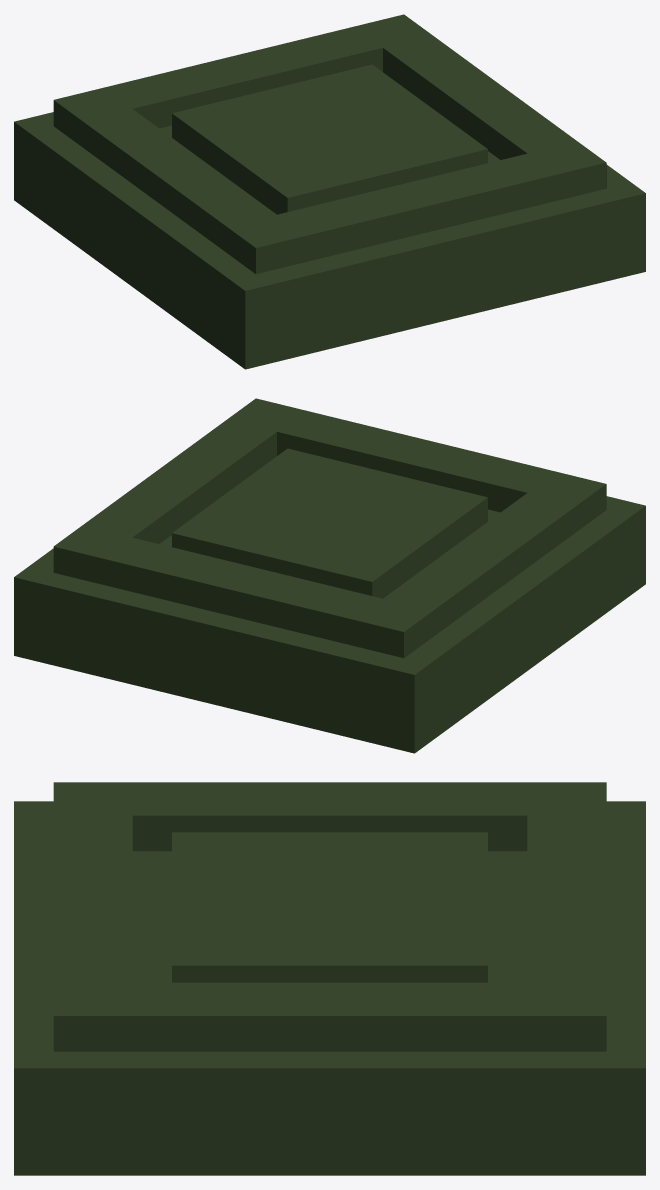
File: man-v1-green.gltf
3 views of the same model, one above another, from view 1: azimuth 30°, elevation 25°; view 2: azimuth 150°, elevation 25°; view 3: azimuth 270°, elevation 25° (orthographic). The views are drawn at different scales.
Parts seen in each view (by area): view 1: Untitled; view 2: Untitled; view 3: Untitled.
Part boxes in pixels (bbox=[...]): Untitled: bbox=[14, 14, 645, 369]; Untitled: bbox=[14, 398, 645, 753]; Untitled: bbox=[14, 782, 645, 1175].
Size of the model in its own units: 1.6 by 0.4 by 1.6.
Materials: 1 (1 with a texture image).
